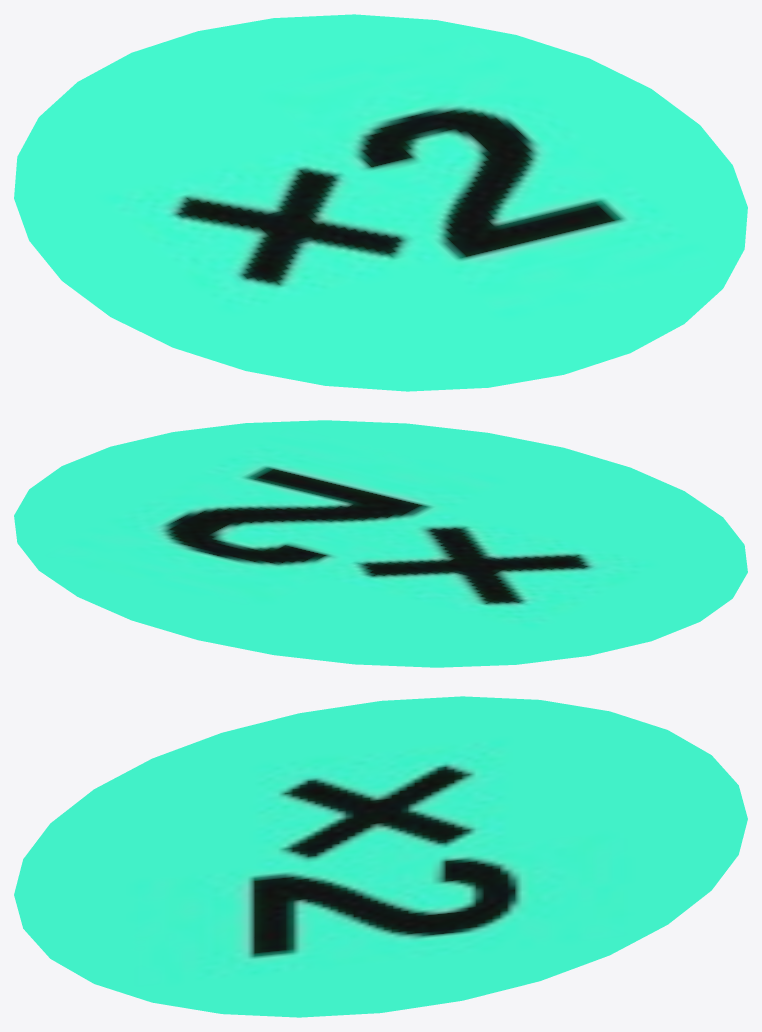
The model's file is pp_light_mult2.glb.
3 renders of one model, top to bottom at view 1: azimuth 30°, elevation 25°; view 2: azimuth 150°, elevation 25°; view 3: azimuth 270°, elevation 25°, orthographic.
Parts seen in each view (by area): view 1: MultLight; view 2: MultLight; view 3: MultLight.
Boxes of the visible parts, x1,y1,x2,y2 form: MultLight: (14,14,747,391); MultLight: (14,420,747,667); MultLight: (14,696,747,1017).
Size of the model in its own units: 0.025 by 0.00283 by 0.0248.
Materials: 1 (1 with a texture image).
